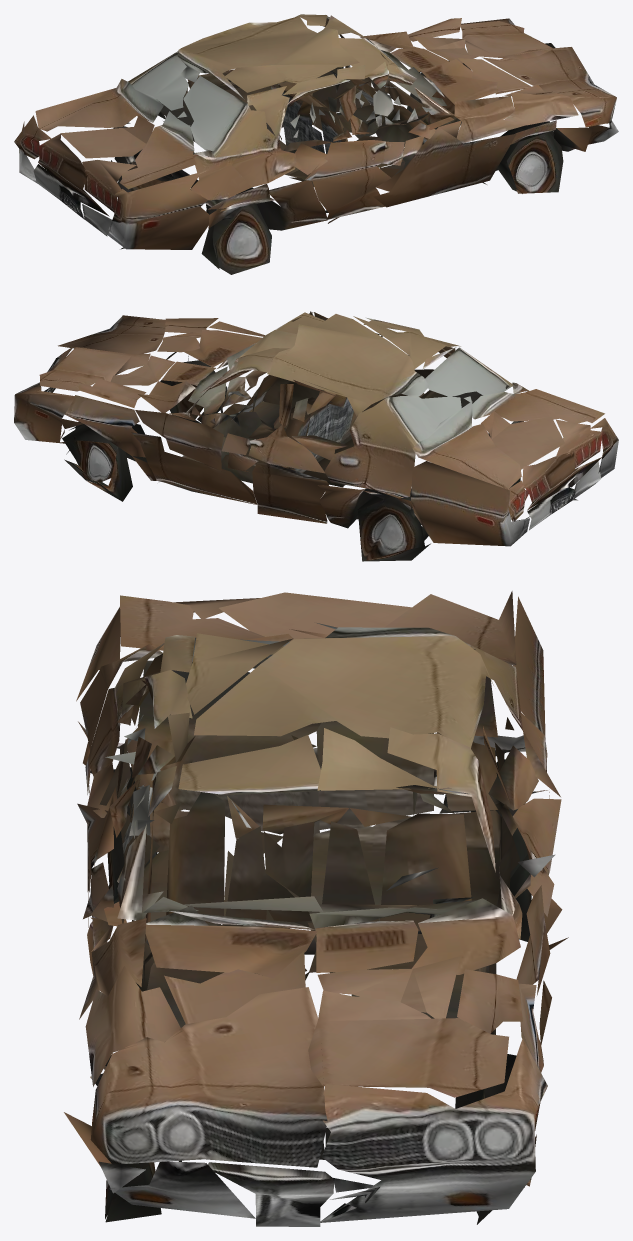
The model's file is car_rusty.glb.
The picture shows the model from 3 angles, top to bottom: view 1: azimuth 30°, elevation 25°; view 2: azimuth 150°, elevation 25°; view 3: azimuth 270°, elevation 25°; orthographic projection. The views are drawn at different scales.
Visible parts, largest first — view 1: x; view 2: x; view 3: x.
Boxes of the visible parts, x1,y1,x2,y2 form: x: (14, 14, 618, 274); x: (14, 311, 618, 561); x: (64, 591, 568, 1226).
Size of the model in its own units: 5.24 by 1.67 by 2.24.
1 material, 1 textured.
